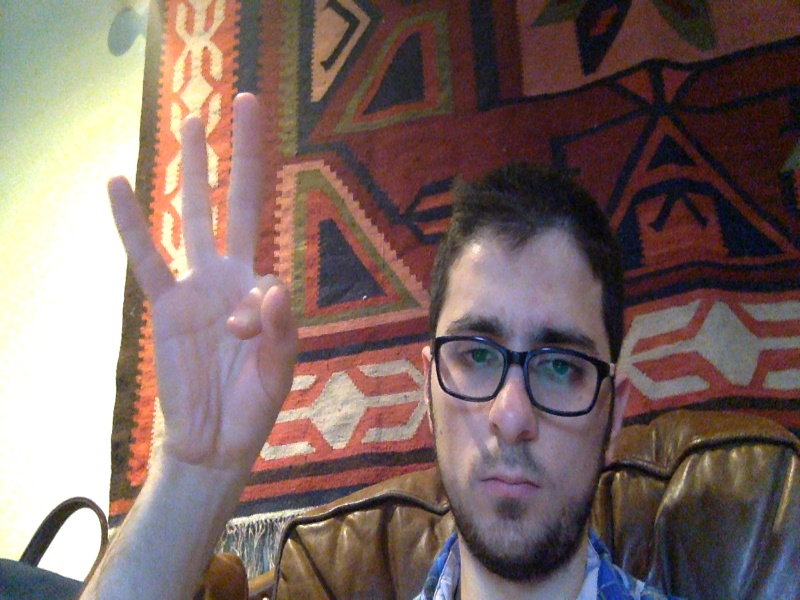3-hand: (108, 93, 294, 465)
